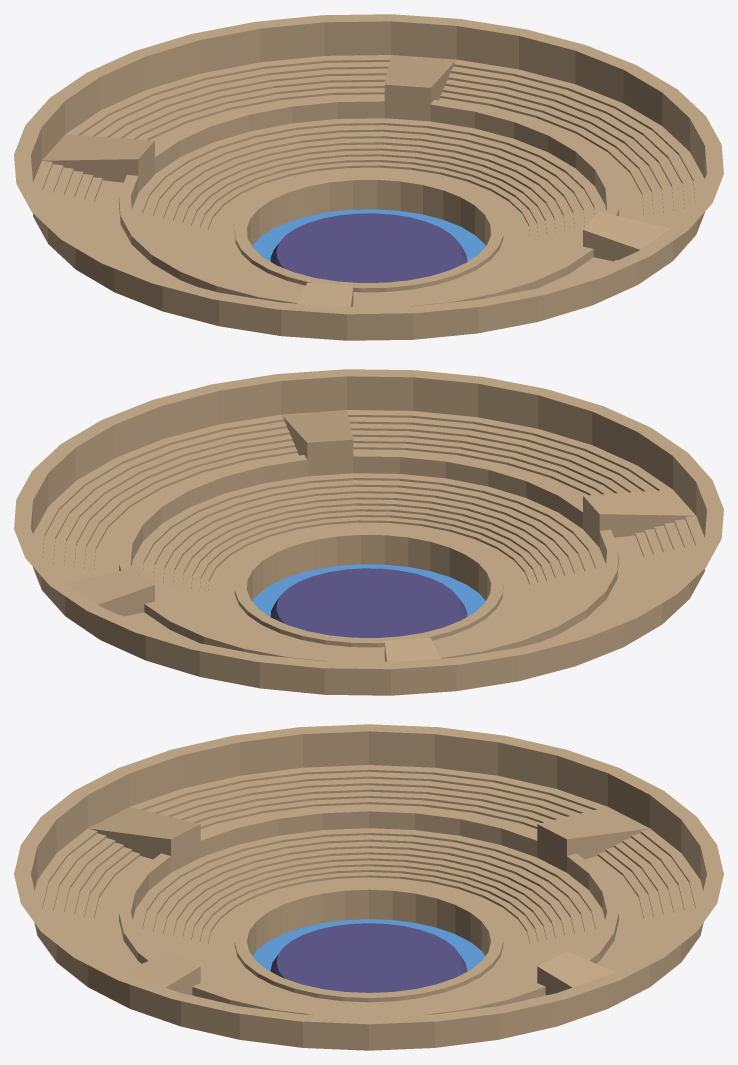
Rendered from Arena.fbx.
3 views of the same model, one above another, from view 1: azimuth 30°, elevation 25°; view 2: azimuth 150°, elevation 25°; view 3: azimuth 270°, elevation 25° (orthographic).
Visible parts, largest first — view 1: Cylinder.001; view 2: Cylinder.001; view 3: Cylinder.001.
Part boxes in pixels (left/top/right/bottom): Cylinder.001: left=14, top=14, right=723, bottom=340; Cylinder.001: left=14, top=369, right=723, bottom=695; Cylinder.001: left=14, top=724, right=723, bottom=1050.
Size of the model in its own units: 154 by 23 by 154.
